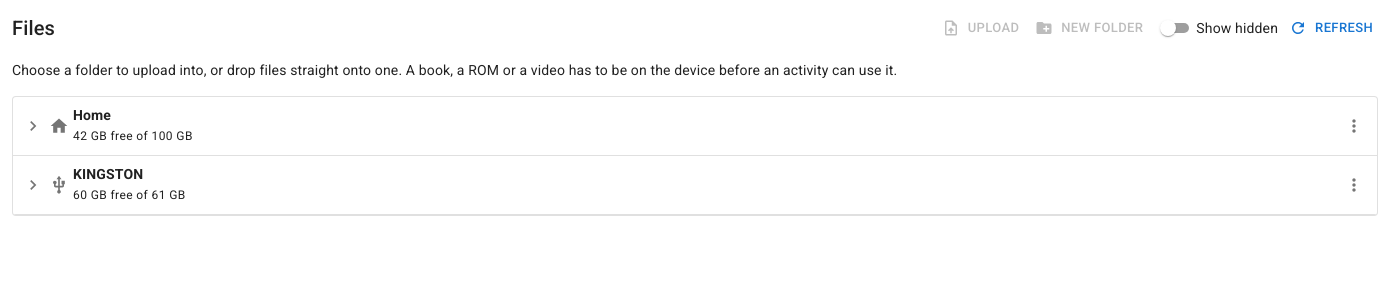
Test: the file tree › folds the columns into the name on a phone
The width and height of the screenshot is (1390, 292).
Expected: the heading "Files" is shown, [12, 12, 55, 44]
Click the button named "Expand Home": click(33, 126) [18, 111, 48, 141]
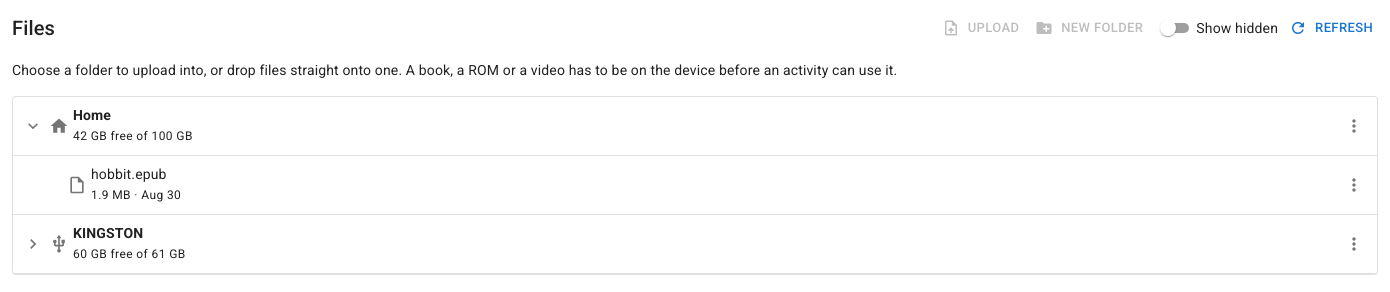
Result: the text "hobbit.epub" is shown at [91, 166, 167, 182]
Result: the text "1.9 MB · Aug 30" is shown at [91, 188, 181, 202]
